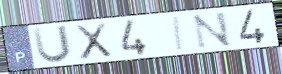4: (120, 17, 150, 57), (238, 8, 268, 45)
I: (172, 15, 186, 53)
N: (191, 10, 234, 51)
U: (31, 24, 74, 65)
X: (73, 21, 114, 62)
